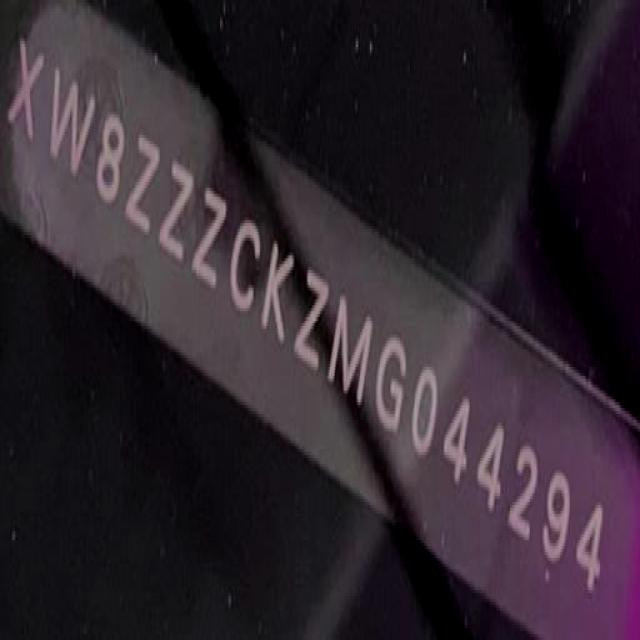0: (410, 366, 439, 466)
2: (508, 430, 536, 550)
4: (575, 497, 605, 598), (440, 391, 472, 483), (478, 418, 504, 512)
8: (96, 112, 125, 210)
9: (540, 470, 571, 573)
C: (228, 217, 264, 311)
G: (373, 325, 408, 433)
K: (262, 240, 293, 338)
M: (328, 290, 372, 410)
W: (50, 54, 95, 190)
X: (7, 37, 43, 146)
Z: (125, 124, 161, 248), (299, 268, 331, 382), (161, 156, 194, 263), (193, 184, 224, 289)
